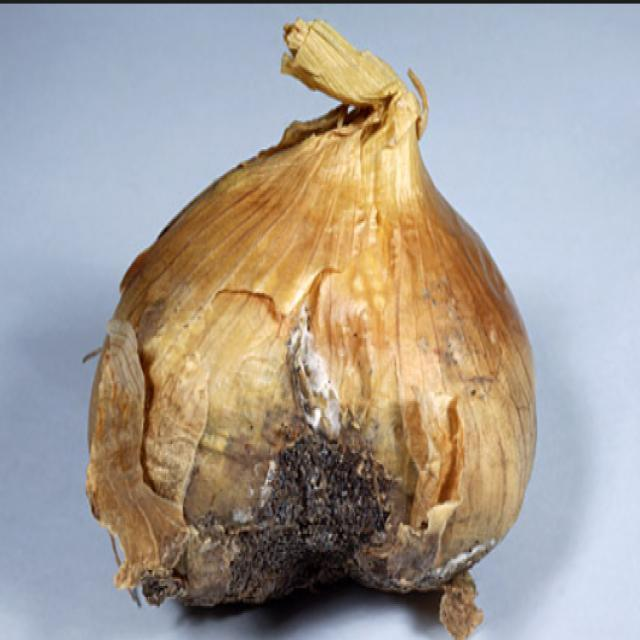rotten: (219, 388, 387, 594)
